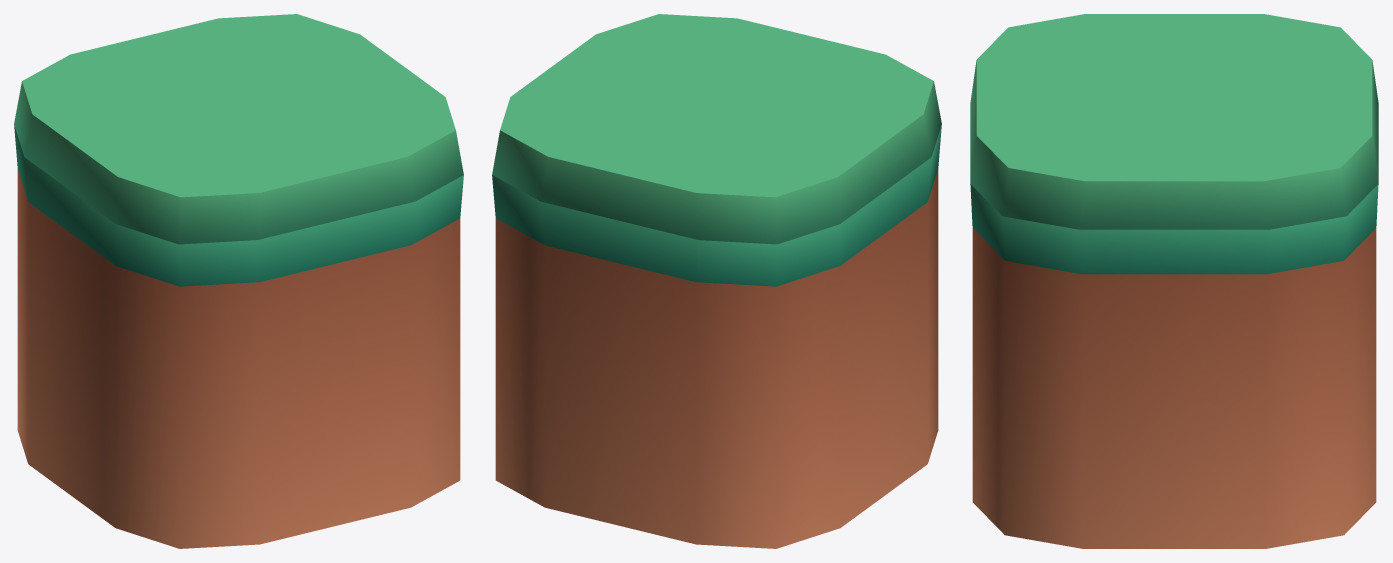
File: block-grass.glb
The picture shows the model from 3 angles, left to right: view 1: azimuth 30°, elevation 25°; view 2: azimuth 150°, elevation 25°; view 3: azimuth 270°, elevation 25°; orthographic projection. The views are drawn at different scales.
Parts seen in each view (by area): view 1: block-grass; view 2: block-grass; view 3: block-grass.
Boxes of the visible parts, x1=… form: block-grass: x1=14, y1=14, x2=463, y2=548; block-grass: x1=492, y1=14, x2=941, y2=548; block-grass: x1=970, y1=14, x2=1378, y2=548.
Size of the model in its own units: 1.01 by 1 by 1.01.
Materials: 1 (1 with a texture image).
